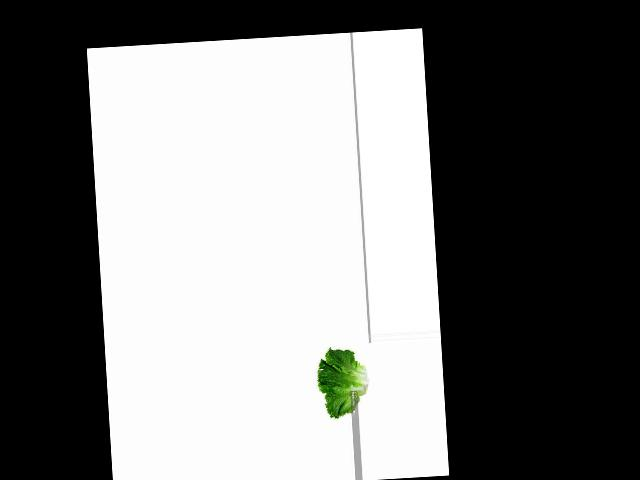lettuce: (316, 346, 371, 416)
